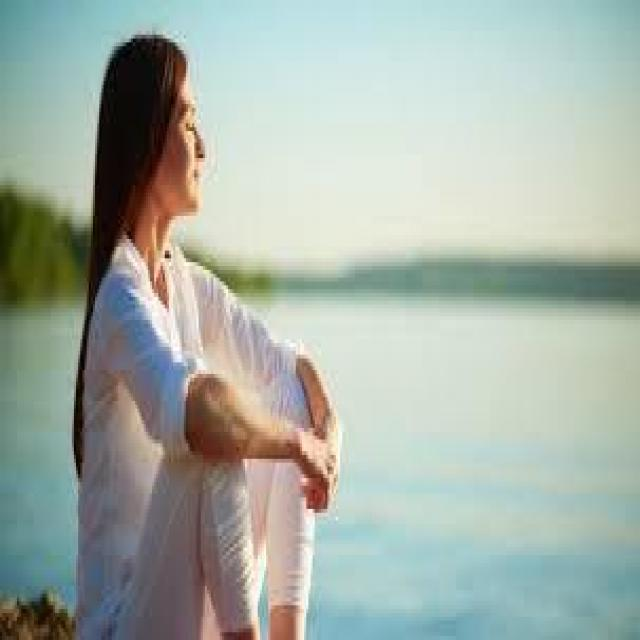person: (53, 19, 340, 636)
